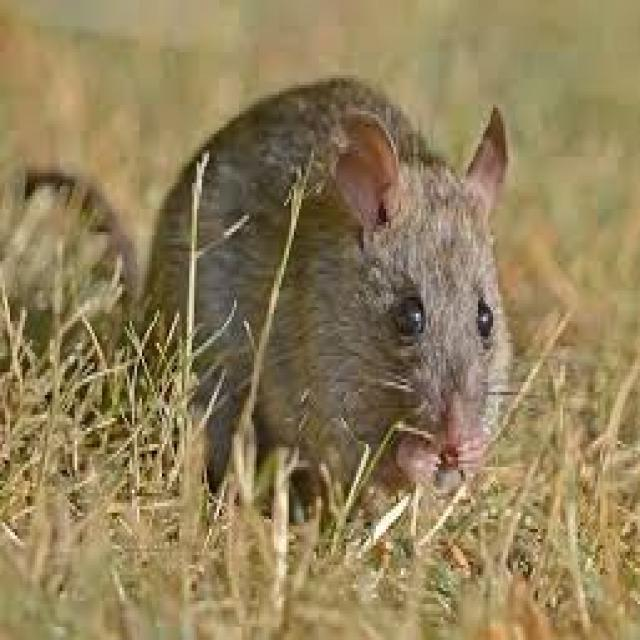Rat: (143, 8, 532, 606)
